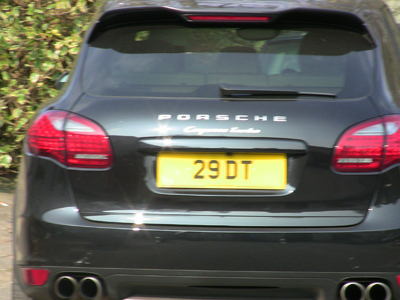licencePlate: (156, 152, 288, 189)
